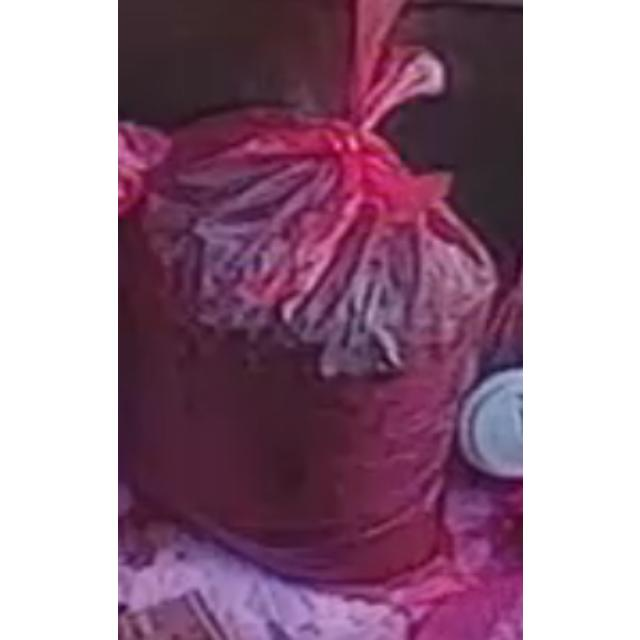other_trashbag: (119, 49, 497, 579)
